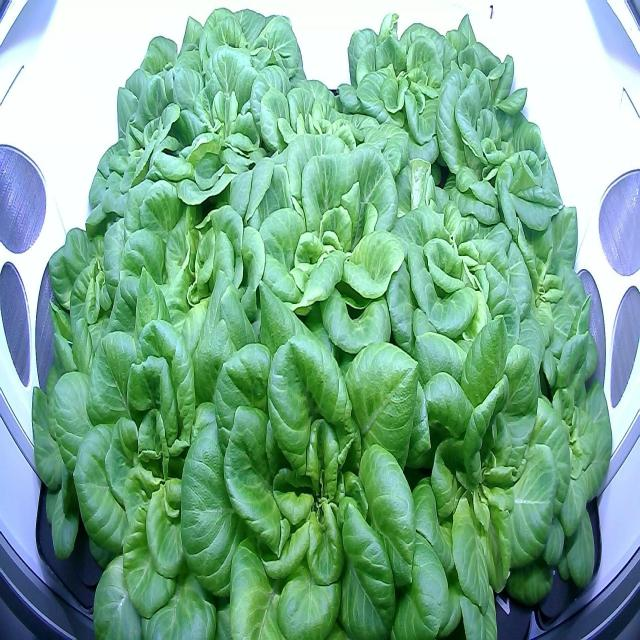Ready: (166, 258, 476, 640), (70, 309, 288, 639), (371, 315, 569, 639), (219, 123, 422, 368), (365, 175, 547, 408), (111, 192, 278, 432), (456, 169, 600, 388), (37, 192, 178, 409), (434, 65, 564, 259), (66, 67, 195, 260), (333, 0, 465, 163), (159, 49, 281, 221), (109, 3, 213, 169), (416, 5, 535, 148), (191, 0, 311, 129)
young: (15, 316, 154, 577), (492, 330, 616, 613), (248, 60, 408, 204)
